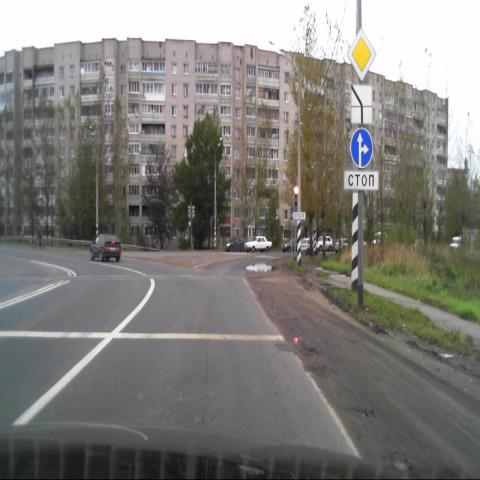4_1_4: (350, 127, 374, 169)
